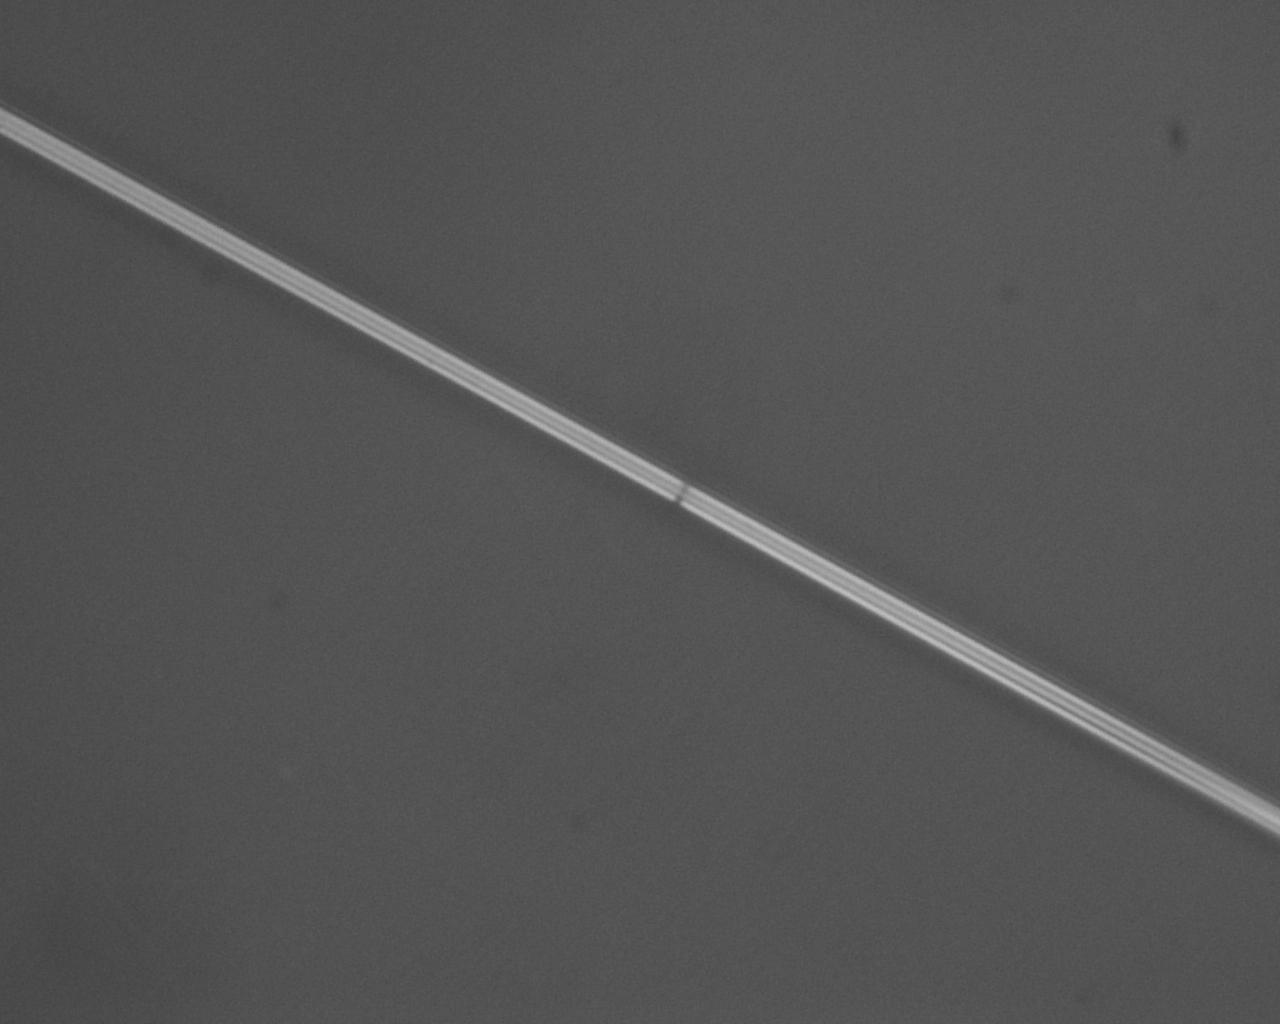fiber: (729, 542, 1280, 1003), (310, 0, 345, 542), (881, 0, 900, 542)
